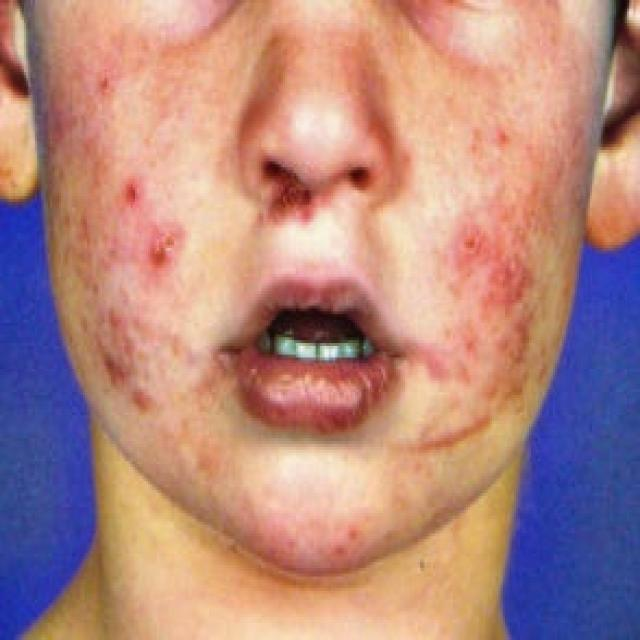Warts-Molluscum-and-other-Viral-Infections: (67, 65, 222, 427), (431, 157, 574, 461)
